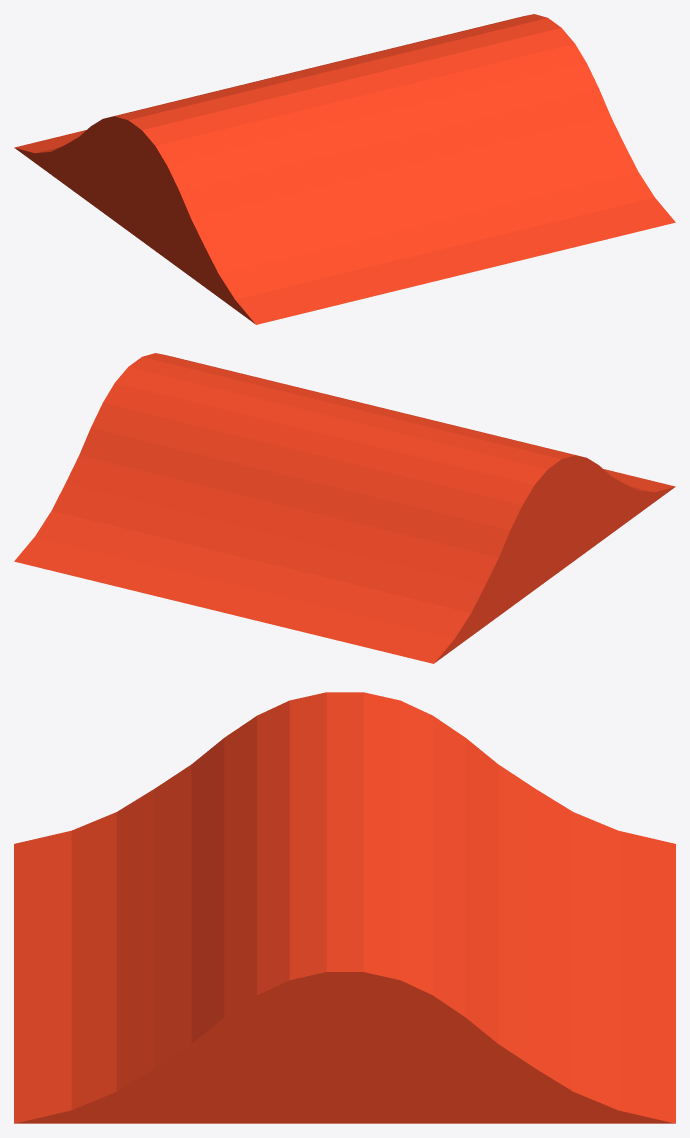
The model's file is SM_Skate_Hill_City.fbx.
3 views of the same model, one above another, from view 1: azimuth 30°, elevation 25°; view 2: azimuth 150°, elevation 25°; view 3: azimuth 270°, elevation 25° (orthographic). The views are drawn at different scales.
Visible parts, largest first — view 1: SM_Skate_Hill_City; view 2: SM_Skate_Hill_City; view 3: SM_Skate_Hill_City.
Part boxes in pixels (left/top/right/bottom): SM_Skate_Hill_City: left=14, top=14, right=675, bottom=324; SM_Skate_Hill_City: left=14, top=353, right=675, bottom=663; SM_Skate_Hill_City: left=14, top=692, right=675, bottom=1123.
Size of the model in its own units: 5 by 1.26 by 5.
